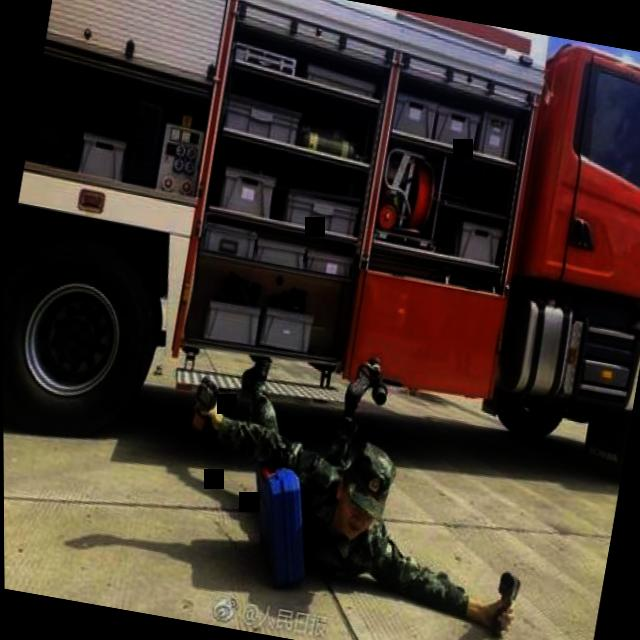Fall-Detected: (146, 286, 574, 640)
